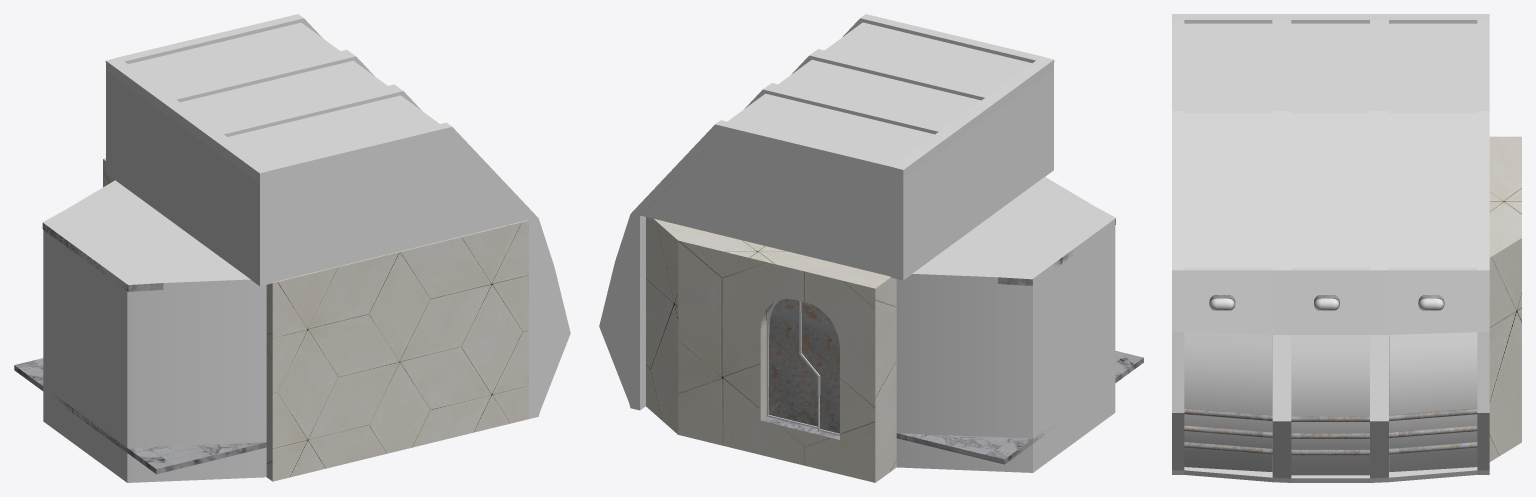
File: Building.fbx
The picture shows the model from 3 angles, left to right: view 1: azimuth 30°, elevation 25°; view 2: azimuth 150°, elevation 25°; view 3: azimuth 270°, elevation 25°; orthographic projection. The views are drawn at different scales.
Visible parts, largest first — view 1: Wall.002, Wall.001, Roof, Glass panele.002, Glass, Roof.001, Flore; view 2: Wall.001, Wall, Roof, Glass panele.002, Glass, Roof.001, Door In, Door In.001, Flore; view 3: Glass, Roof, Glass.001, Wall, Metel Op, Lamp, Lamp Base.
Boxes of the visible parts, x1,y1,x2,y2 form: Wall.002: (266, 220, 528, 481); Wall.001: (43, 180, 266, 482); Roof: (105, 14, 570, 418); Glass panele.002: (272, 137, 527, 281); Glass: (128, 22, 439, 165); Roof.001: (42, 204, 217, 291); Flore: (14, 358, 266, 474); Wall.001: (896, 177, 1115, 472); Wall: (646, 217, 896, 482); Roof: (599, 14, 1054, 410); Glass panele.002: (641, 134, 890, 276); Glass: (727, 22, 1031, 162); Roof.001: (945, 200, 1115, 285); Door In: (768, 299, 817, 426); Door In.001: (801, 301, 839, 433); Flore: (896, 350, 1143, 464); Glass: (1184, 23, 1477, 267); Roof: (1172, 14, 1489, 482); Glass.001: (1184, 332, 1477, 475); Wall: (1489, 136, 1521, 461); Metel Op: (1184, 408, 1477, 455); Lamp: (1210, 298, 1443, 310); Lamp Base: (1209, 295, 1444, 310).
Size of the model in its own units: 6.89 by 4.84 by 4.78.
4 materials, 3 textured.
